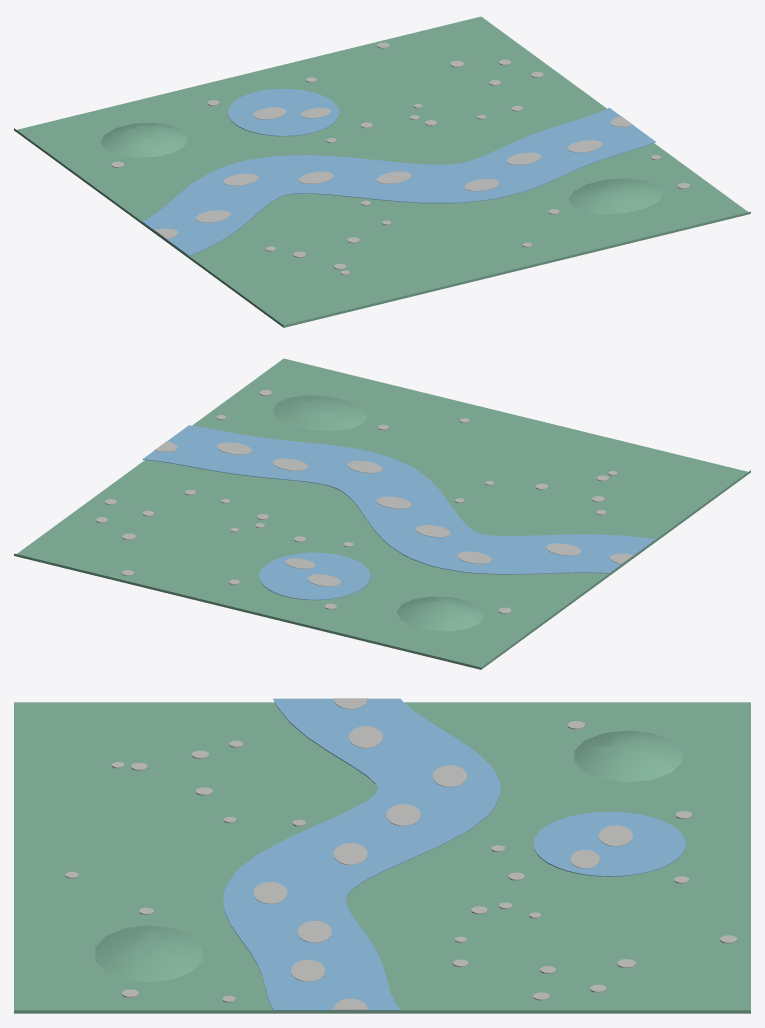
3 views of the same model, one above another, from view 1: azimuth 30°, elevation 25°; view 2: azimuth 150°, elevation 25°; view 3: azimuth 270°, elevation 25° (orthographic). The views are drawn at different scales.
Visible parts, largest first — view 1: Safety_Pad, River_Inlay, Terrain, Stone_Inlay; view 2: Safety_Pad, River_Inlay, Terrain, Stone_Inlay; view 3: Safety_Pad, River_Inlay, Terrain, Stone_Inlay.
Part boxes in pixels (x1,y1,x2,y2): Safety_Pad: [14, 16, 750, 327]; River_Inlay: [142, 89, 655, 255]; Terrain: [101, 123, 662, 214]; Stone_Inlay: [111, 42, 690, 275]; Safety_Pad: [14, 358, 750, 669]; River_Inlay: [142, 425, 655, 600]; Terrain: [272, 395, 484, 631]; Stone_Inlay: [95, 390, 633, 613]; Safety_Pad: [14, 702, 750, 1013]; River_Inlay: [223, 698, 685, 1010]; Terrain: [95, 730, 681, 982]; Stone_Inlay: [65, 698, 737, 1010].
Size of what is drawn, in the model's own units: 6 by 0.12 by 6.
